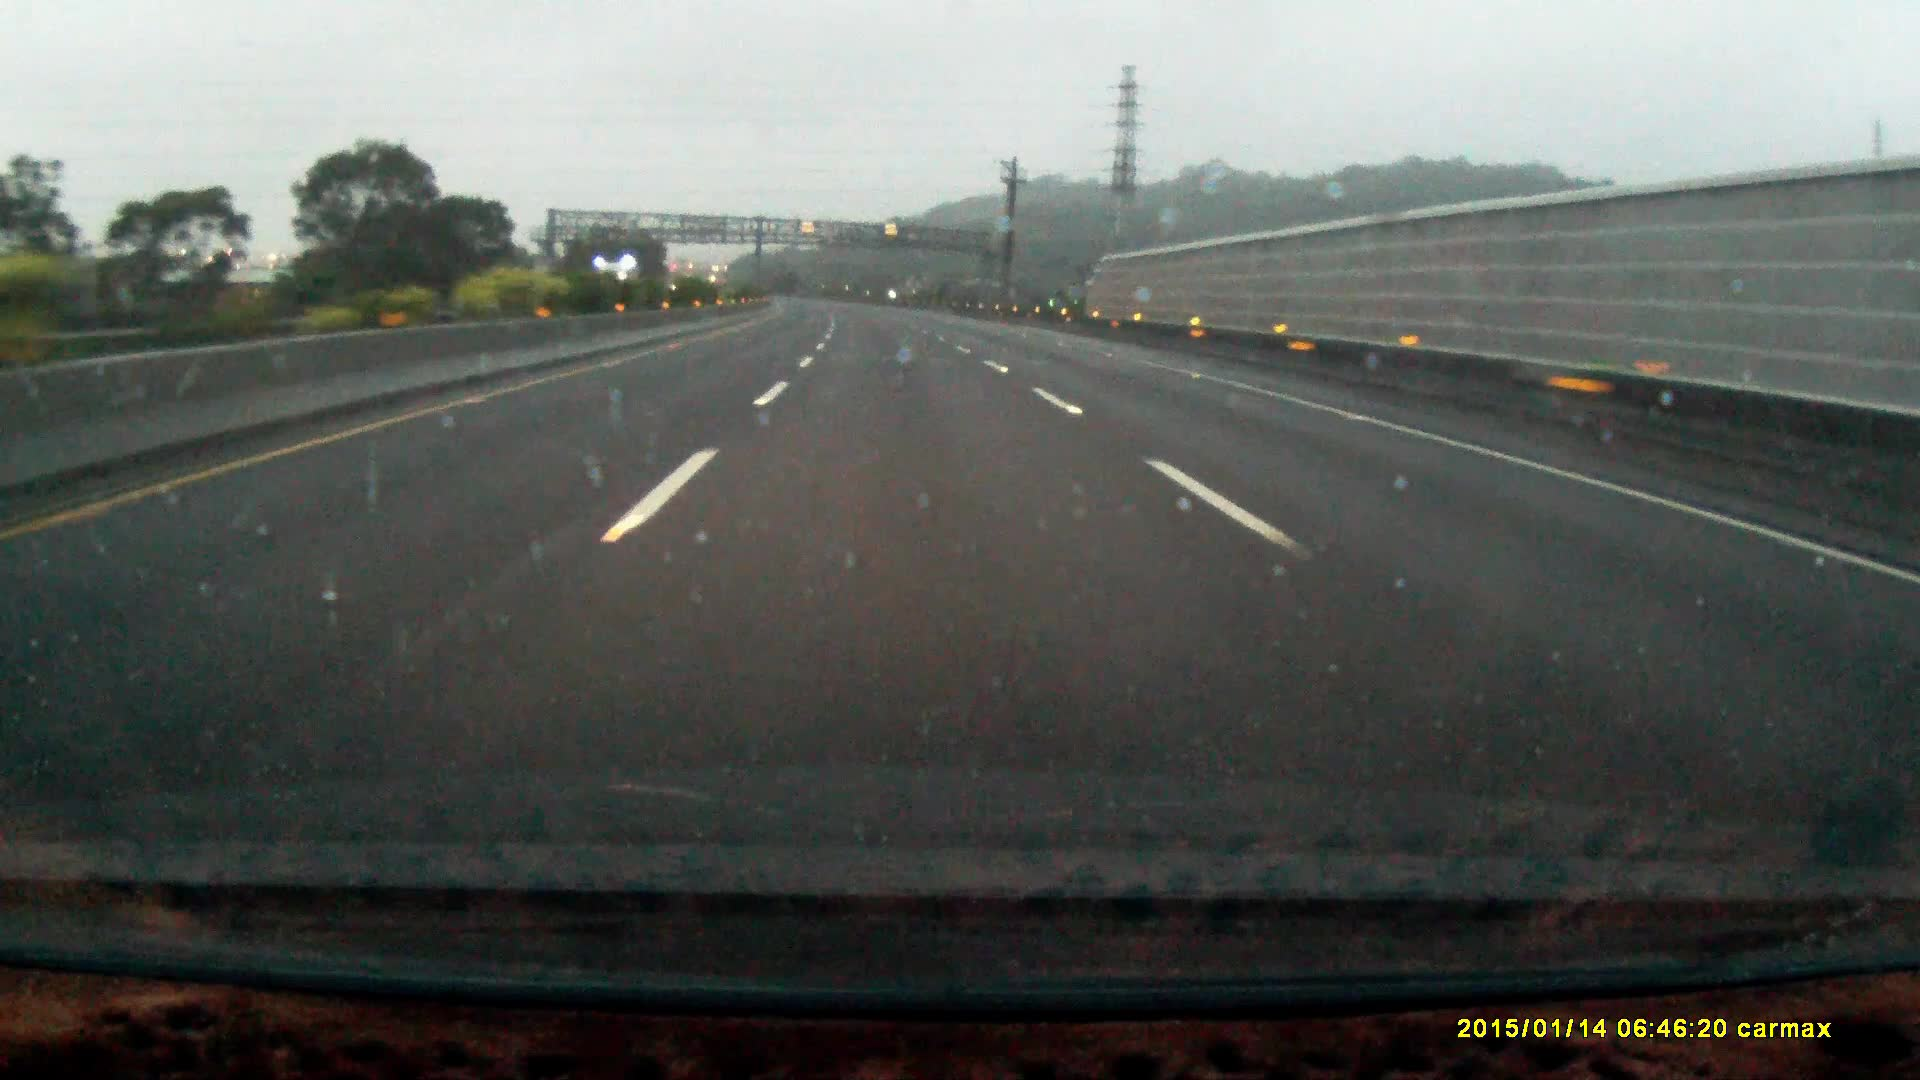vehicle: (595, 258, 641, 313)
